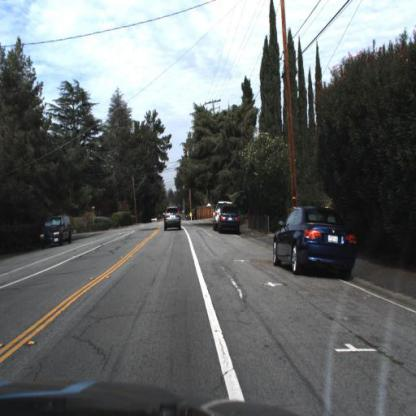car: (264, 203, 364, 291), (37, 212, 75, 252), (42, 213, 73, 251), (215, 203, 244, 240), (160, 202, 187, 238), (215, 204, 242, 235)
